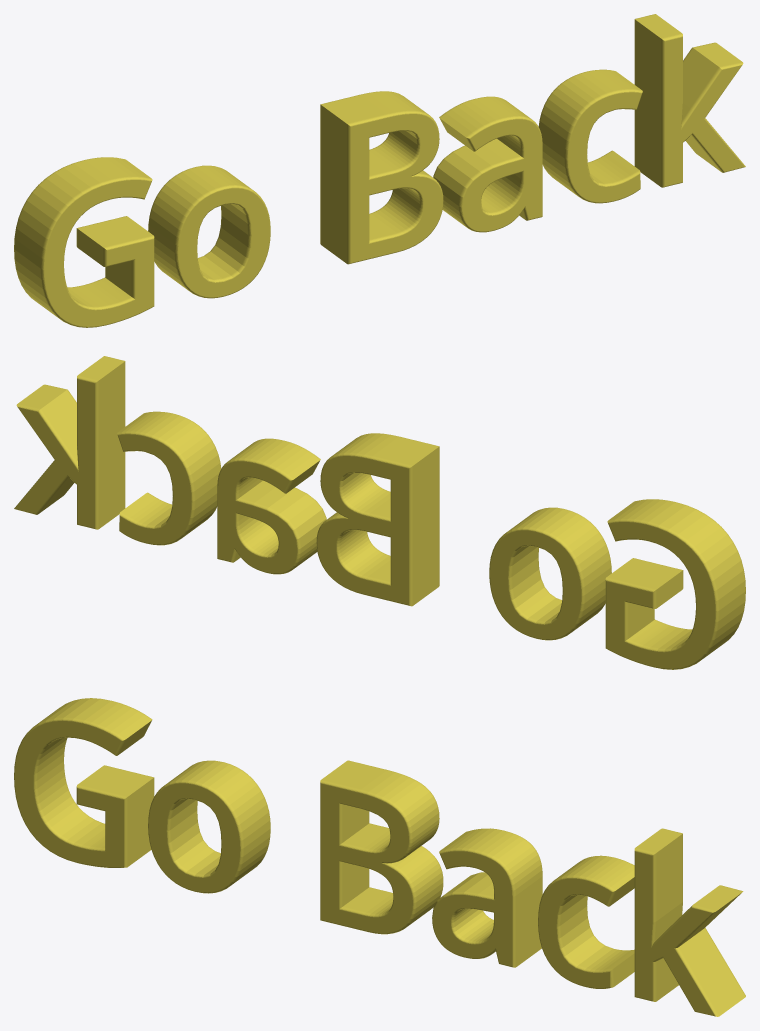
The model's file is Terrific Stantia.glb.
The picture shows the model from 3 angles, top to bottom: view 1: azimuth 30°, elevation 25°; view 2: azimuth 150°, elevation 25°; view 3: azimuth 330°, elevation 25°; orthographic projection.
Parts seen in each view (by area): view 1: Mesh_Mesh_head_geo.001_lambert2SG.001; view 2: Mesh_Mesh_head_geo.001_lambert2SG.001; view 3: Mesh_Mesh_head_geo.001_lambert2SG.001.
Part boxes in pixels (x1,y1,x2,y2): Mesh_Mesh_head_geo.001_lambert2SG.001: [14, 14, 745, 327]; Mesh_Mesh_head_geo.001_lambert2SG.001: [14, 356, 745, 669]; Mesh_Mesh_head_geo.001_lambert2SG.001: [14, 698, 745, 1016].
Bounding box in the file's own units: 56.36 × 11.52 × 4.12.
